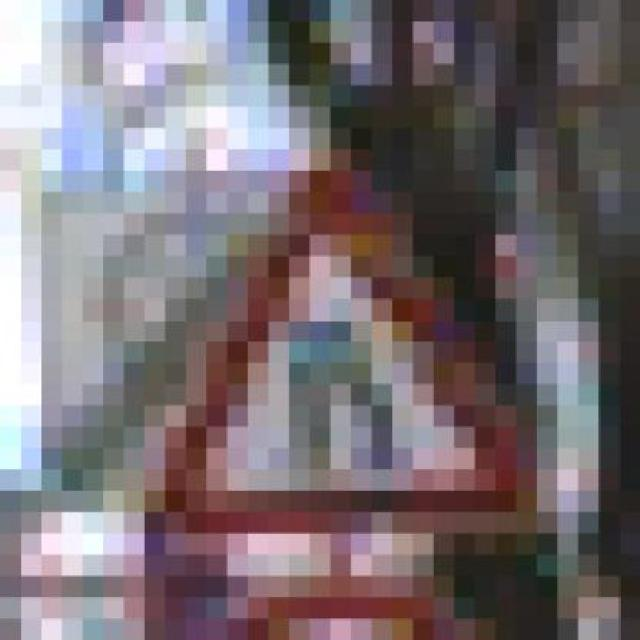-Road narrows on right: (103, 128, 557, 555)
